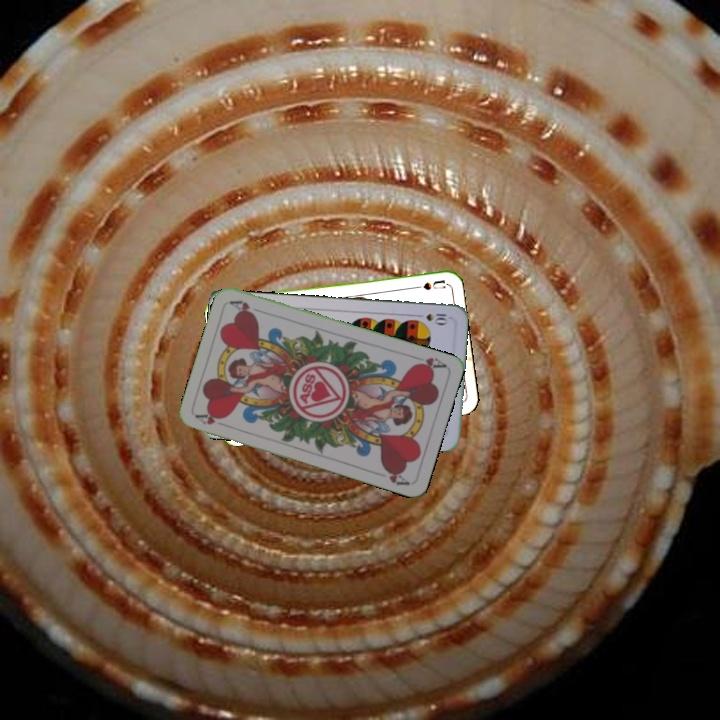HA: (408, 352, 448, 373), (192, 409, 232, 430)
S10: (412, 309, 452, 326)
SU: (406, 276, 447, 293)
